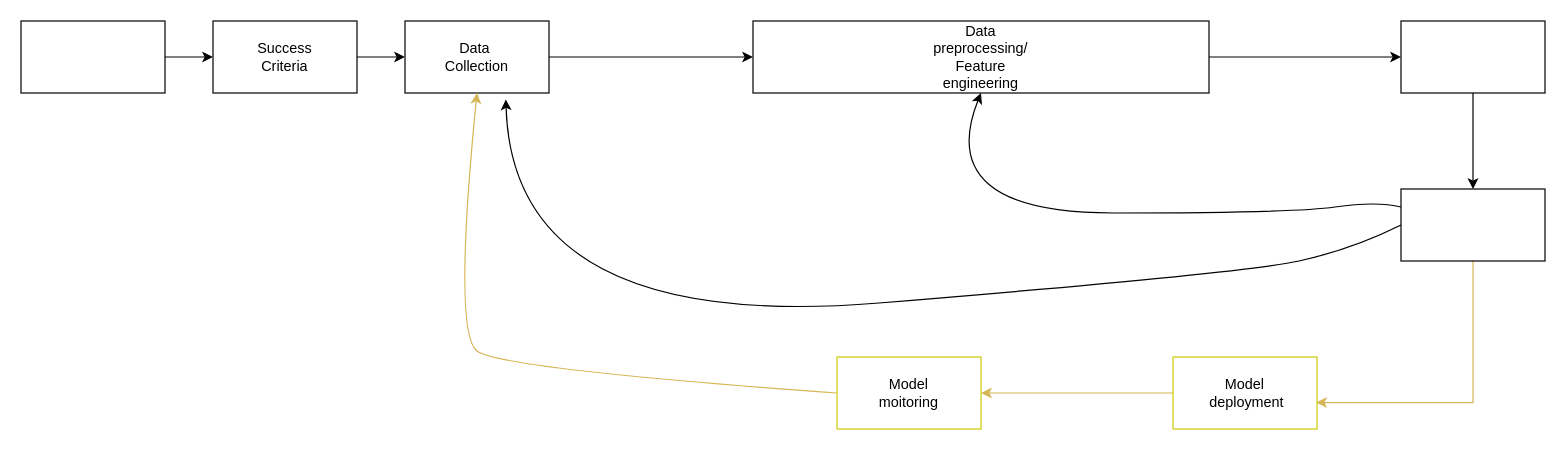
This 1566x450 diagram has some shape labels left out. The shapes that lost their labels are listed below. From the top down, each one's centre as x and y in pixels, then its label:
At [92,56]: "Business Problem".
At [1472,56]: "Model trainning".
At [1472,224]: "Model evaluation".
